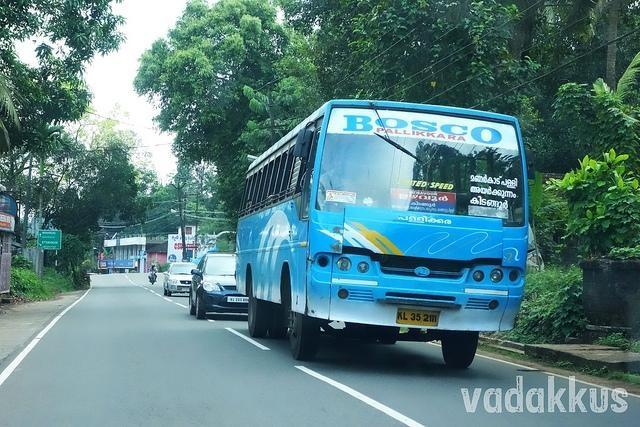bus: (232, 100, 527, 370)
car: (188, 251, 248, 320), (162, 261, 198, 296)
motorcycle: (152, 271, 158, 284), (148, 268, 152, 285)
